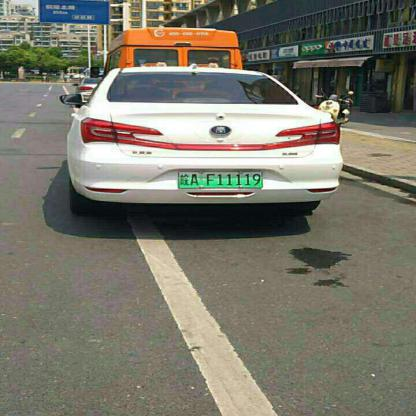lp: (178, 170, 262, 187)
